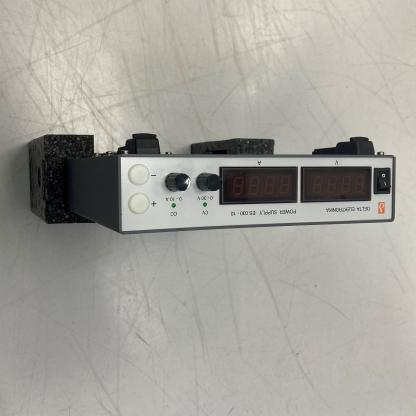SP0000005: (8, 0, 415, 415)
